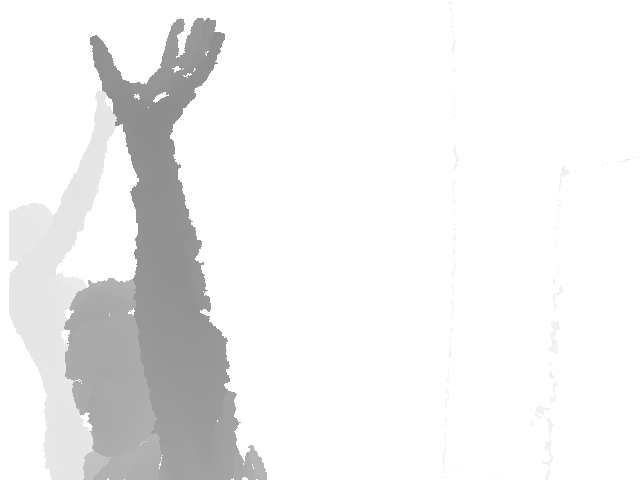hand: (89, 18, 225, 140), (92, 88, 129, 138)
head: (64, 278, 175, 457), (9, 202, 56, 261)
person: (63, 18, 269, 480), (8, 88, 120, 480)
